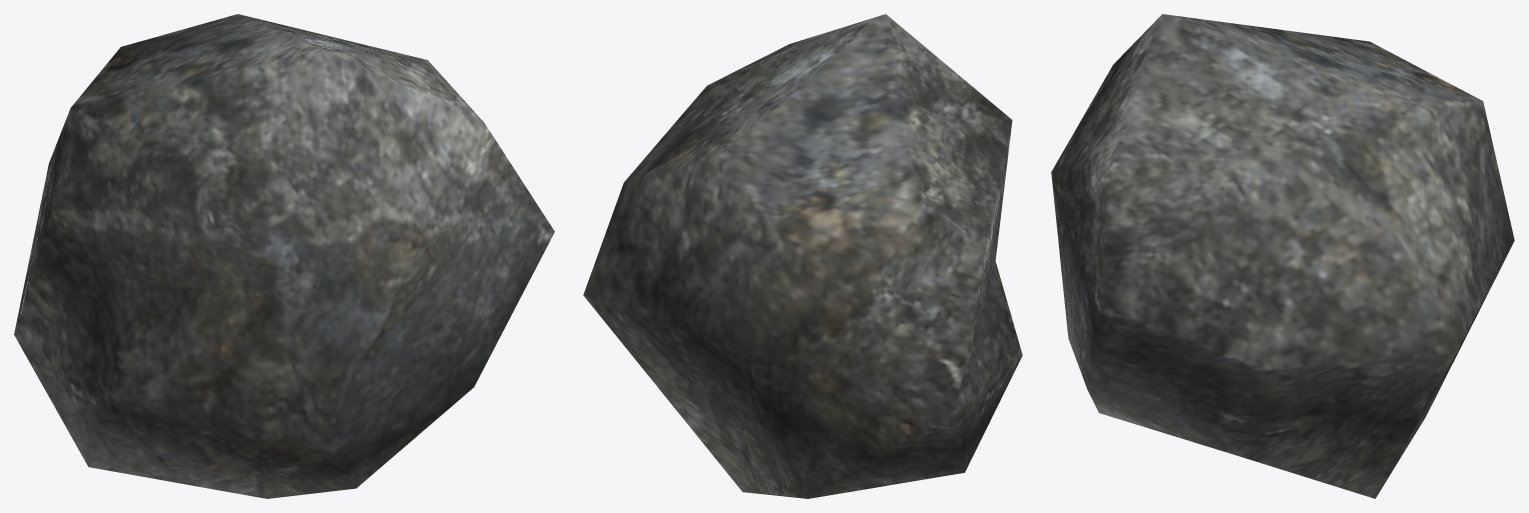
The model's file is FallingRock_4.dae.
3 views of the same model, side by side, from view 1: azimuth 30°, elevation 25°; view 2: azimuth 150°, elevation 25°; view 3: azimuth 270°, elevation 25° (orthographic). The views are drawn at different scales.
Visible parts, largest first — view 1: FallingRock04; view 2: FallingRock04; view 3: FallingRock04.
Part boxes in pixels (<box>): FallingRock04: <box>14,14,554,498</box>; FallingRock04: <box>583,14,1022,498</box>; FallingRock04: <box>1051,14,1514,498</box>.
Bounding box in the file's own units: 42.25 × 41.38 × 45.33.
Materials: 1 (1 with a texture image).
